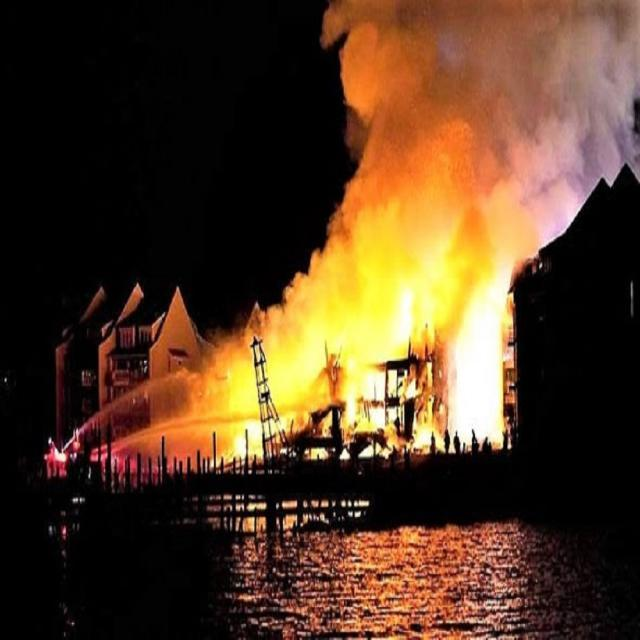Fire: (92, 234, 536, 475)
Smoke: (320, 0, 640, 224)
